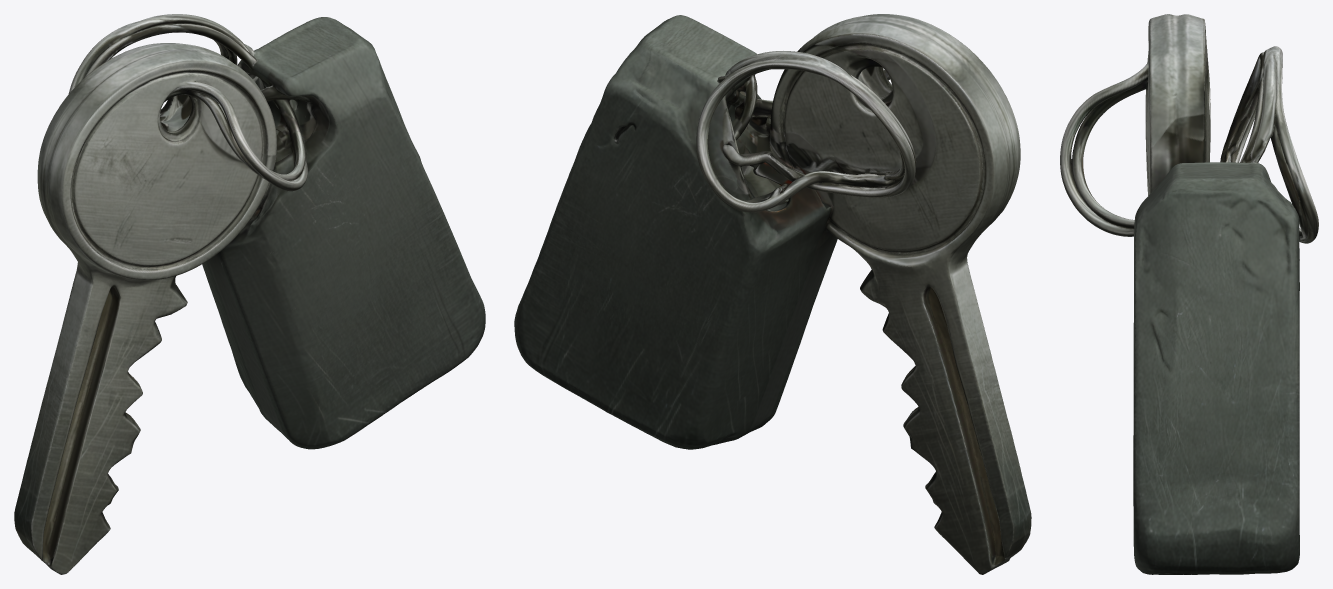
The model's file is Key.glb.
3 views of the same model, side by side, from view 1: azimuth 30°, elevation 25°; view 2: azimuth 150°, elevation 25°; view 3: azimuth 270°, elevation 25° (orthographic). The views are drawn at different scales.
Parts seen in each view (by area): view 1: texture_mapping; view 2: texture_mapping; view 3: texture_mapping.
Boxes of the visible parts, x1,y1,x2,y2 form: texture_mapping: [14, 14, 485, 574]; texture_mapping: [514, 14, 1031, 574]; texture_mapping: [1060, 14, 1318, 574].
Size of the model in its own units: 0.9338 by 0.999 by 0.4404.
1 material, 1 textured.
